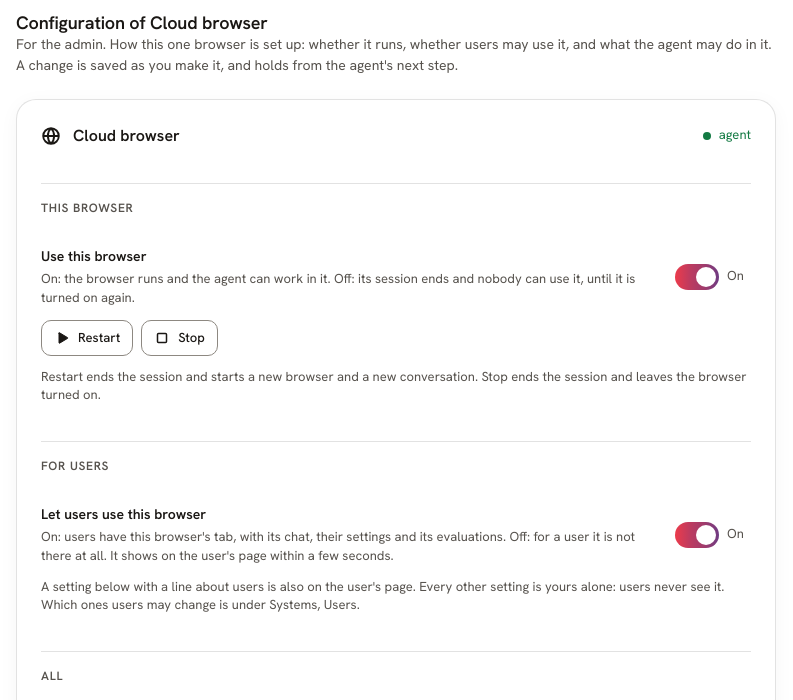
Test case: one browser’s configuration, for the admin (spec 9.17) › says in a sentence what could not be done
Click the button "Stop" at (180, 338), box [141,320,218,356]
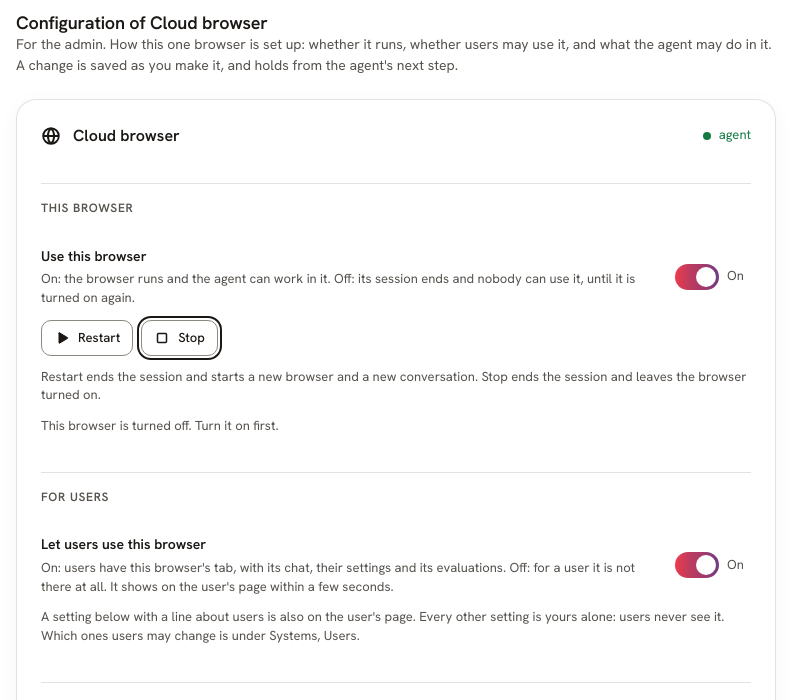
Check: the text "This browser is turned off. Turn it on first." is shown, box [41,417,279,434]
